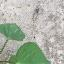Morning glory: (0, 10, 53, 64)
